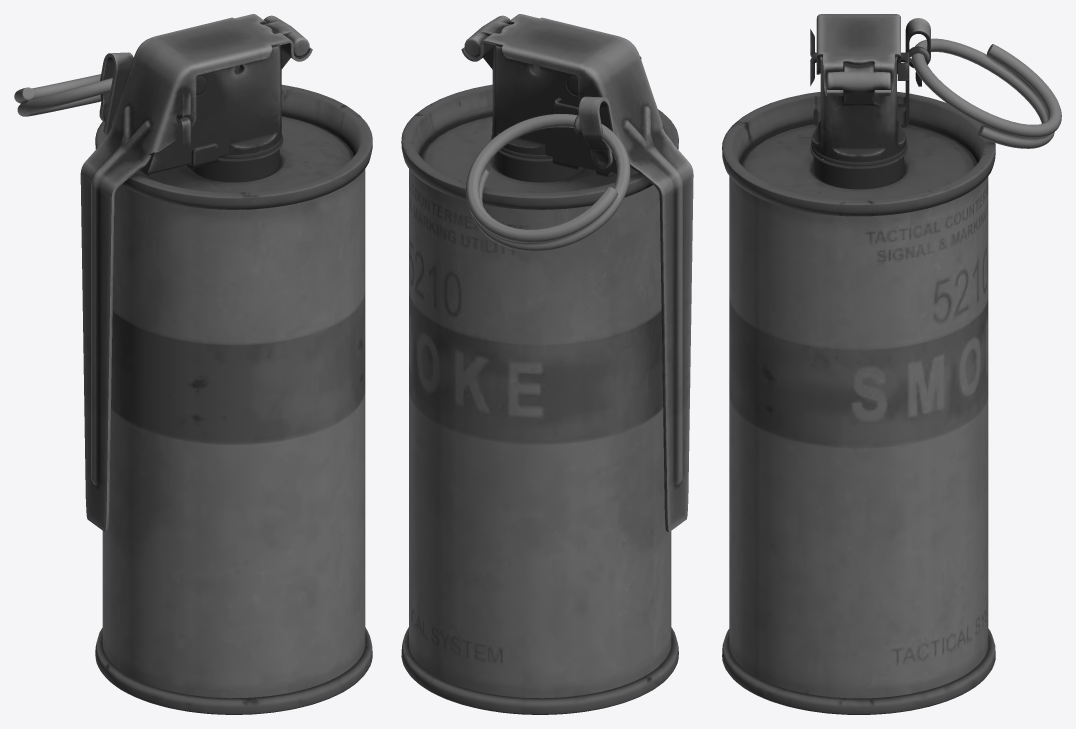
File: smoke_grenade.glb
The picture shows the model from 3 angles, left to right: view 1: azimuth 30°, elevation 25°; view 2: azimuth 150°, elevation 25°; view 3: azimuth 270°, elevation 25°; orthographic projection.
Visible parts, largest first — view 1: weapons/models/grenade/smokegrenade/weapon_smokegrenade.vmdl; view 2: weapons/models/grenade/smokegrenade/weapon_smokegrenade.vmdl; view 3: weapons/models/grenade/smokegrenade/weapon_smokegrenade.vmdl.
Part boxes in pixels (bbox=[...]): weapons/models/grenade/smokegrenade/weapon_smokegrenade.vmdl: bbox=[14, 14, 372, 714]; weapons/models/grenade/smokegrenade/weapon_smokegrenade.vmdl: bbox=[401, 14, 693, 714]; weapons/models/grenade/smokegrenade/weapon_smokegrenade.vmdl: bbox=[722, 14, 1061, 714].
Bounding box in the file's own units: 0.0527 × 0.1181 × 0.0594.
Materials: 1 (1 with a texture image).
